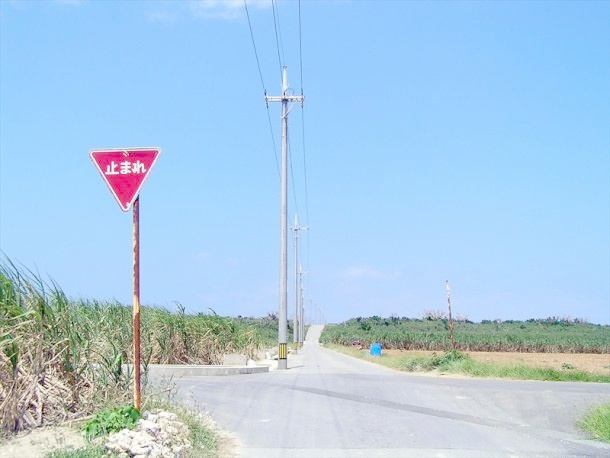Regulatory_sign_triangle: (85, 142, 171, 216)
